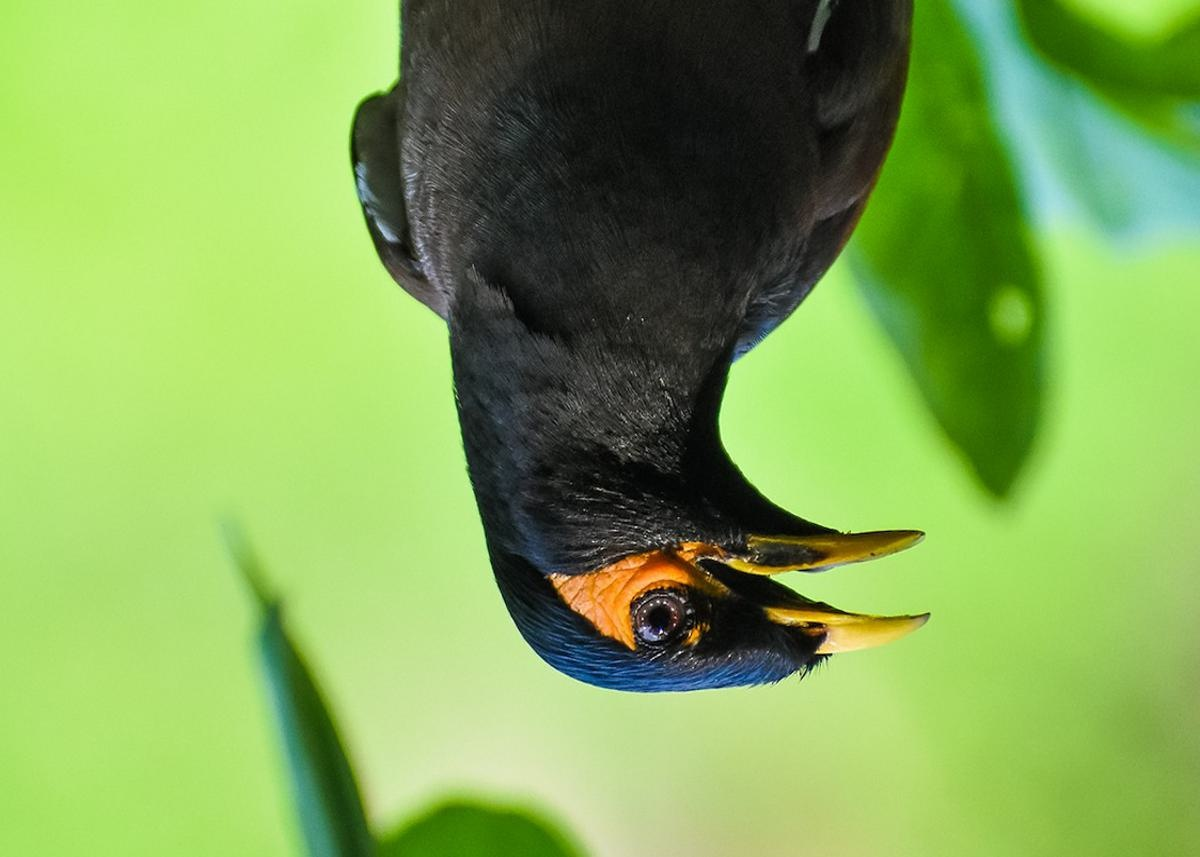myna: (386, 1, 964, 725)
